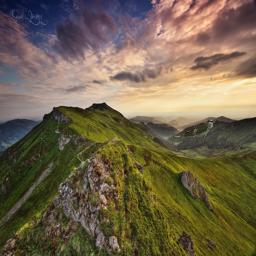Cuckoo: (167, 119, 213, 140)
